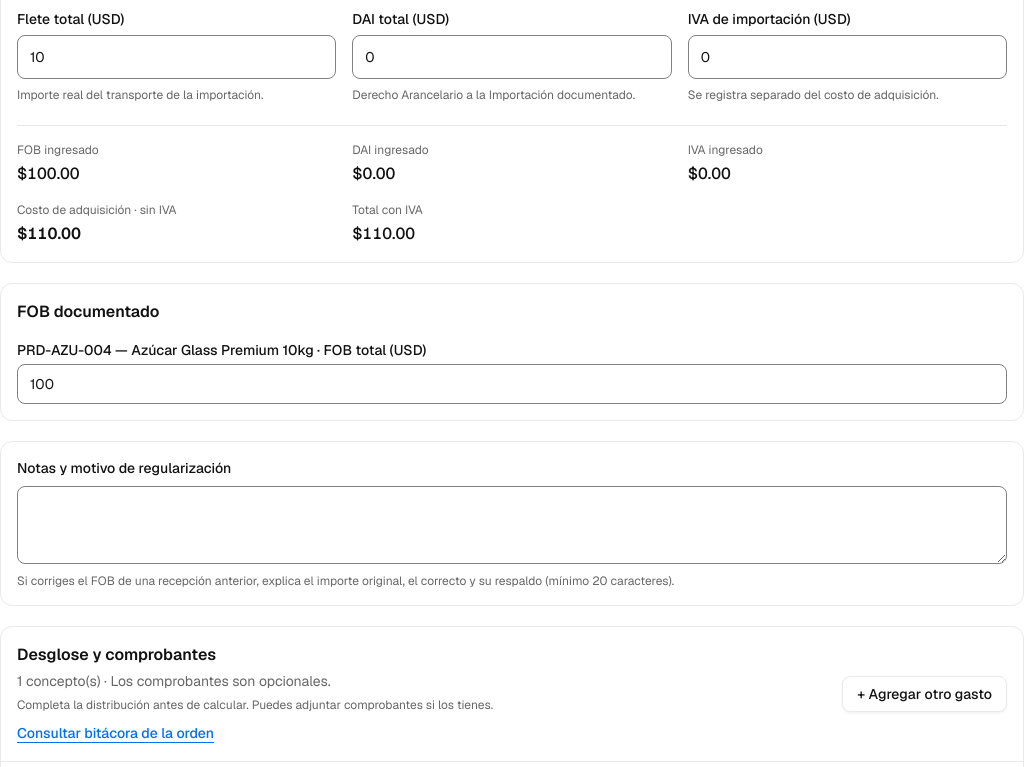
Test: Manual retaceo and actual spending › retrying reference data preserves captured financial amounts
(page scrolled)
Replace the text in the number field labelled "PRD-AZU-004 — Azúcar Glass Premium 10kg · FOB total (USD)" with "125" at (512, 384), box [17,364,1007,404]
(page scrolled)
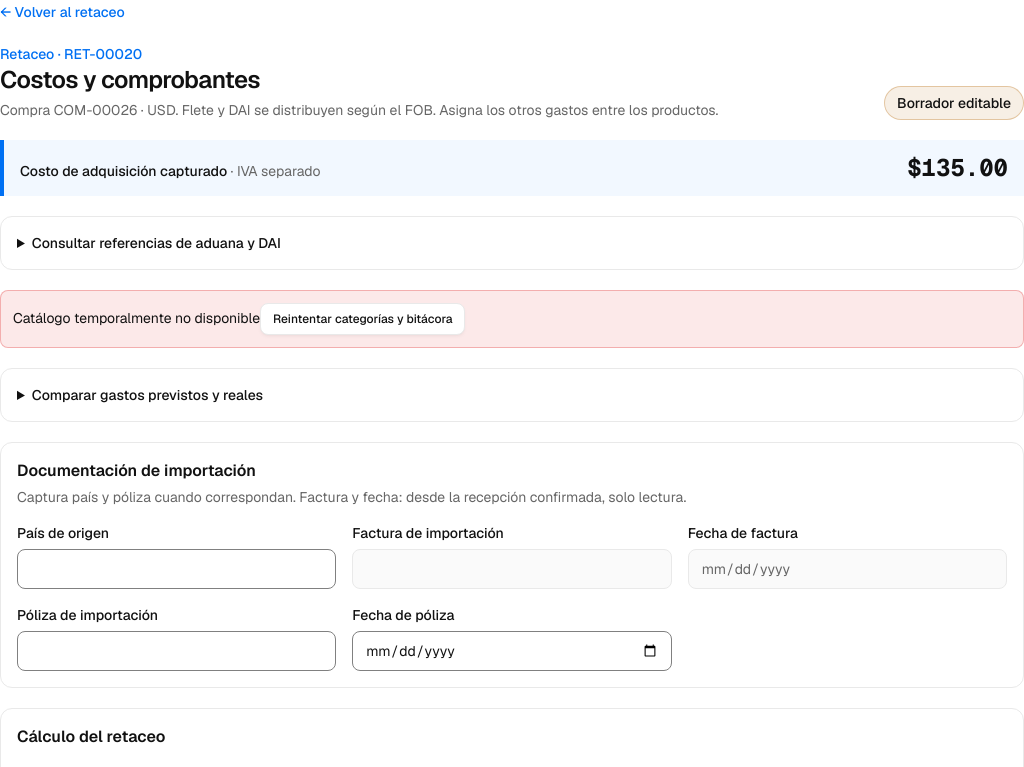
Click the button "Reintentar categorías y bitácora" at (363, 319), box [260,303,465,335]
(page scrolled)
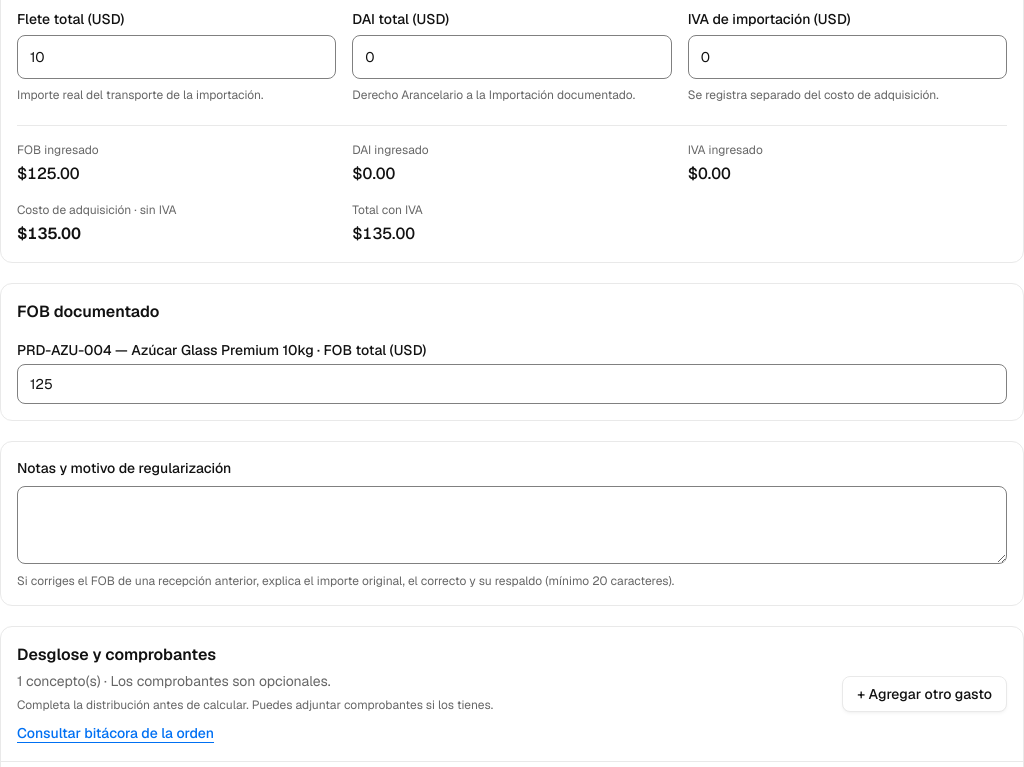
expect the text "Catálogo temporalmente no disponible" is gone: met
